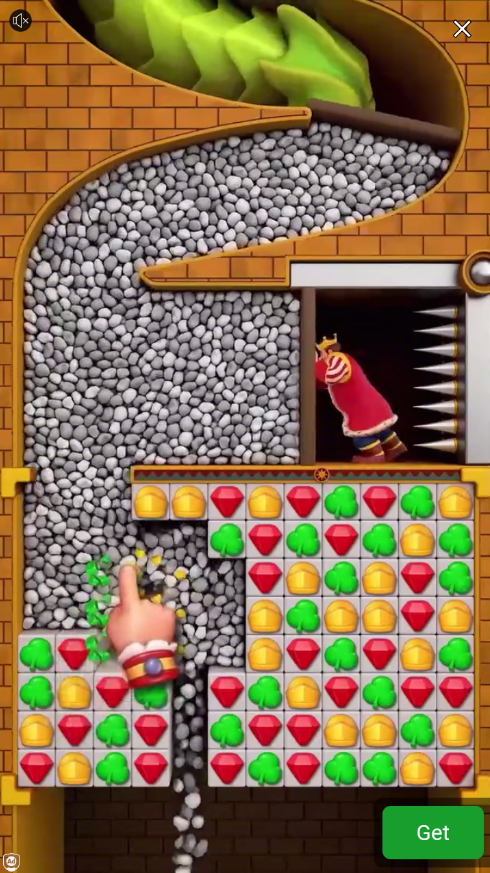close_button: (450, 16, 475, 43)
